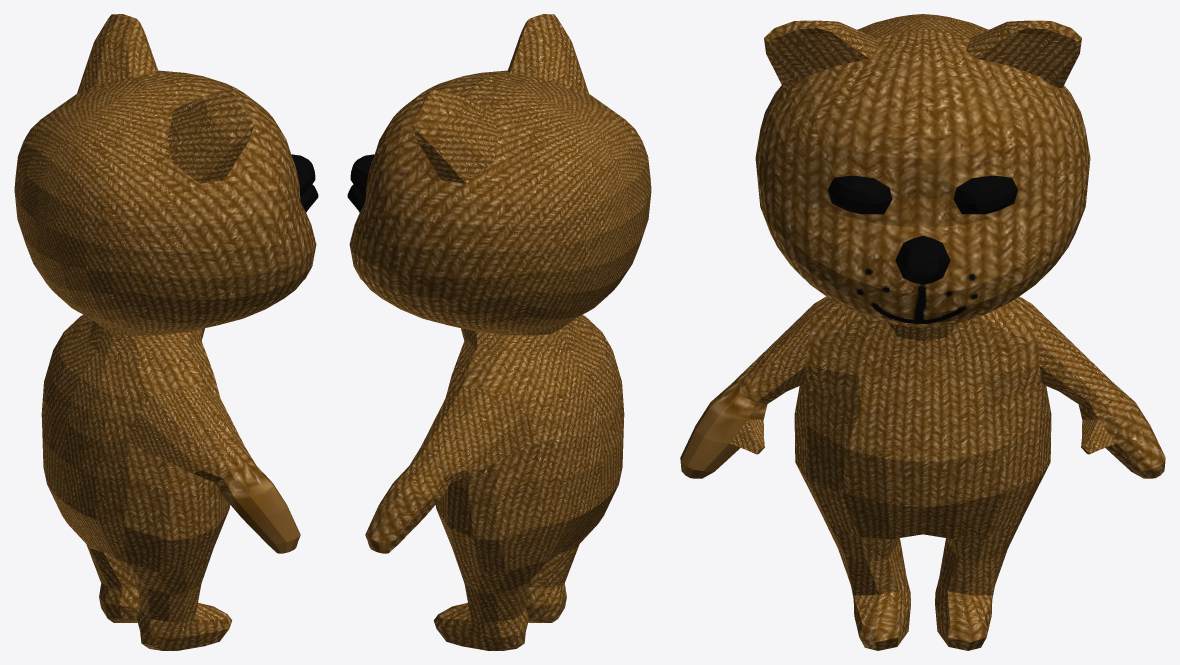
Rendered from toy_bear.fbx.
3 views of the same model, side by side, from view 1: azimuth 30°, elevation 25°; view 2: azimuth 150°, elevation 25°; view 3: azimuth 270°, elevation 25° (orthographic). The views are drawn at different scales.
Parts seen in each view (by area): view 1: l; view 2: l; view 3: l.
Part boxes in pixels (left/top/right/bottom): l: left=14, top=14, right=318, bottom=650; l: left=347, top=14, right=651, bottom=650; l: left=680, top=14, right=1165, bottom=650.
Bounding box in the file's own units: 38.85 × 76.36 × 53.59.
